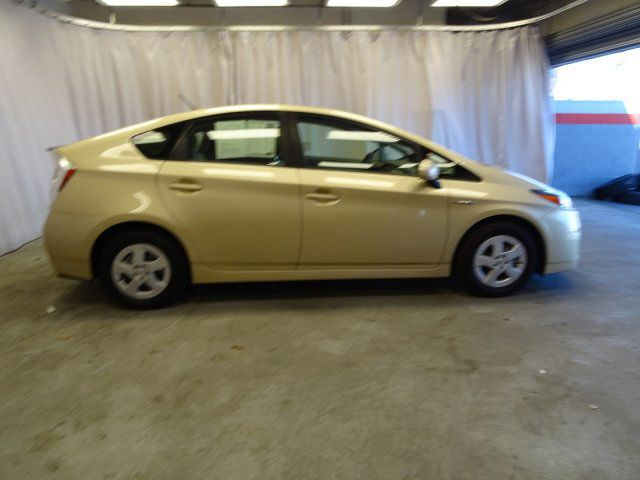Toyota Prius: (44, 105, 582, 312)
